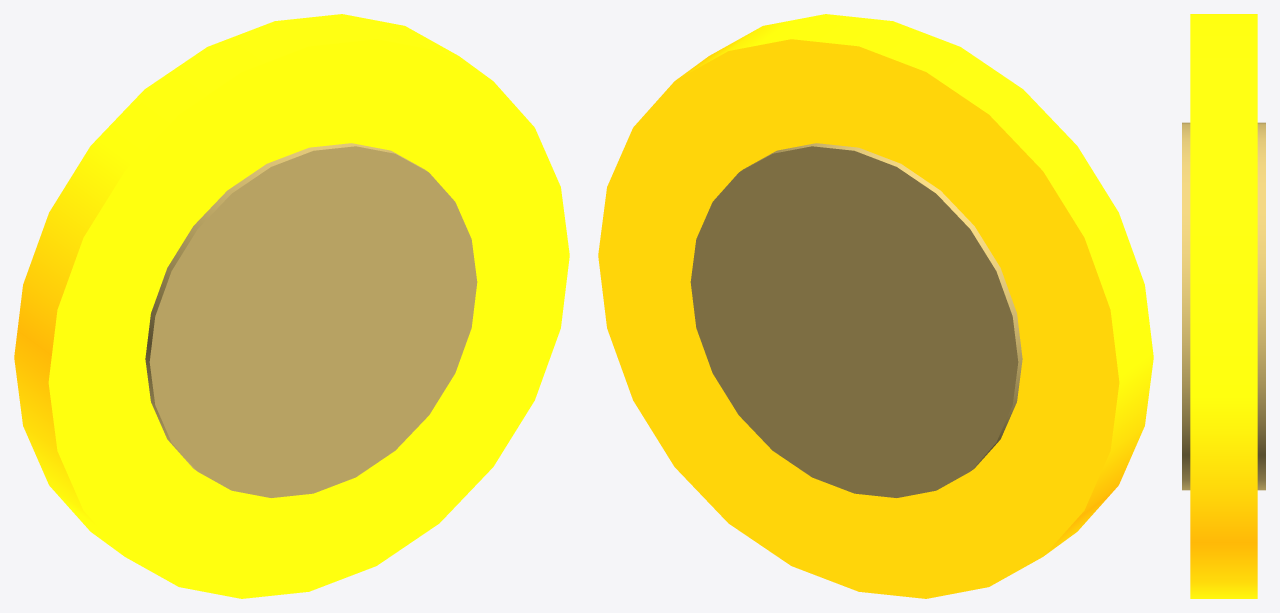
File: coin.glb
3 views of the same model, side by side, from view 1: azimuth 30°, elevation 25°; view 2: azimuth 150°, elevation 25°; view 3: azimuth 270°, elevation 25° (orthographic). The views are drawn at different scales.
Parts seen in each view (by area): view 1: coin; view 2: coin; view 3: coin.
Boxes of the visible parts, x1,y1,x2,y2 form: coin: (14,14,569,598); coin: (598,14,1153,598); coin: (1182,14,1265,598).
Size of the model in its own units: 0.7 by 0.7 by 0.1.
